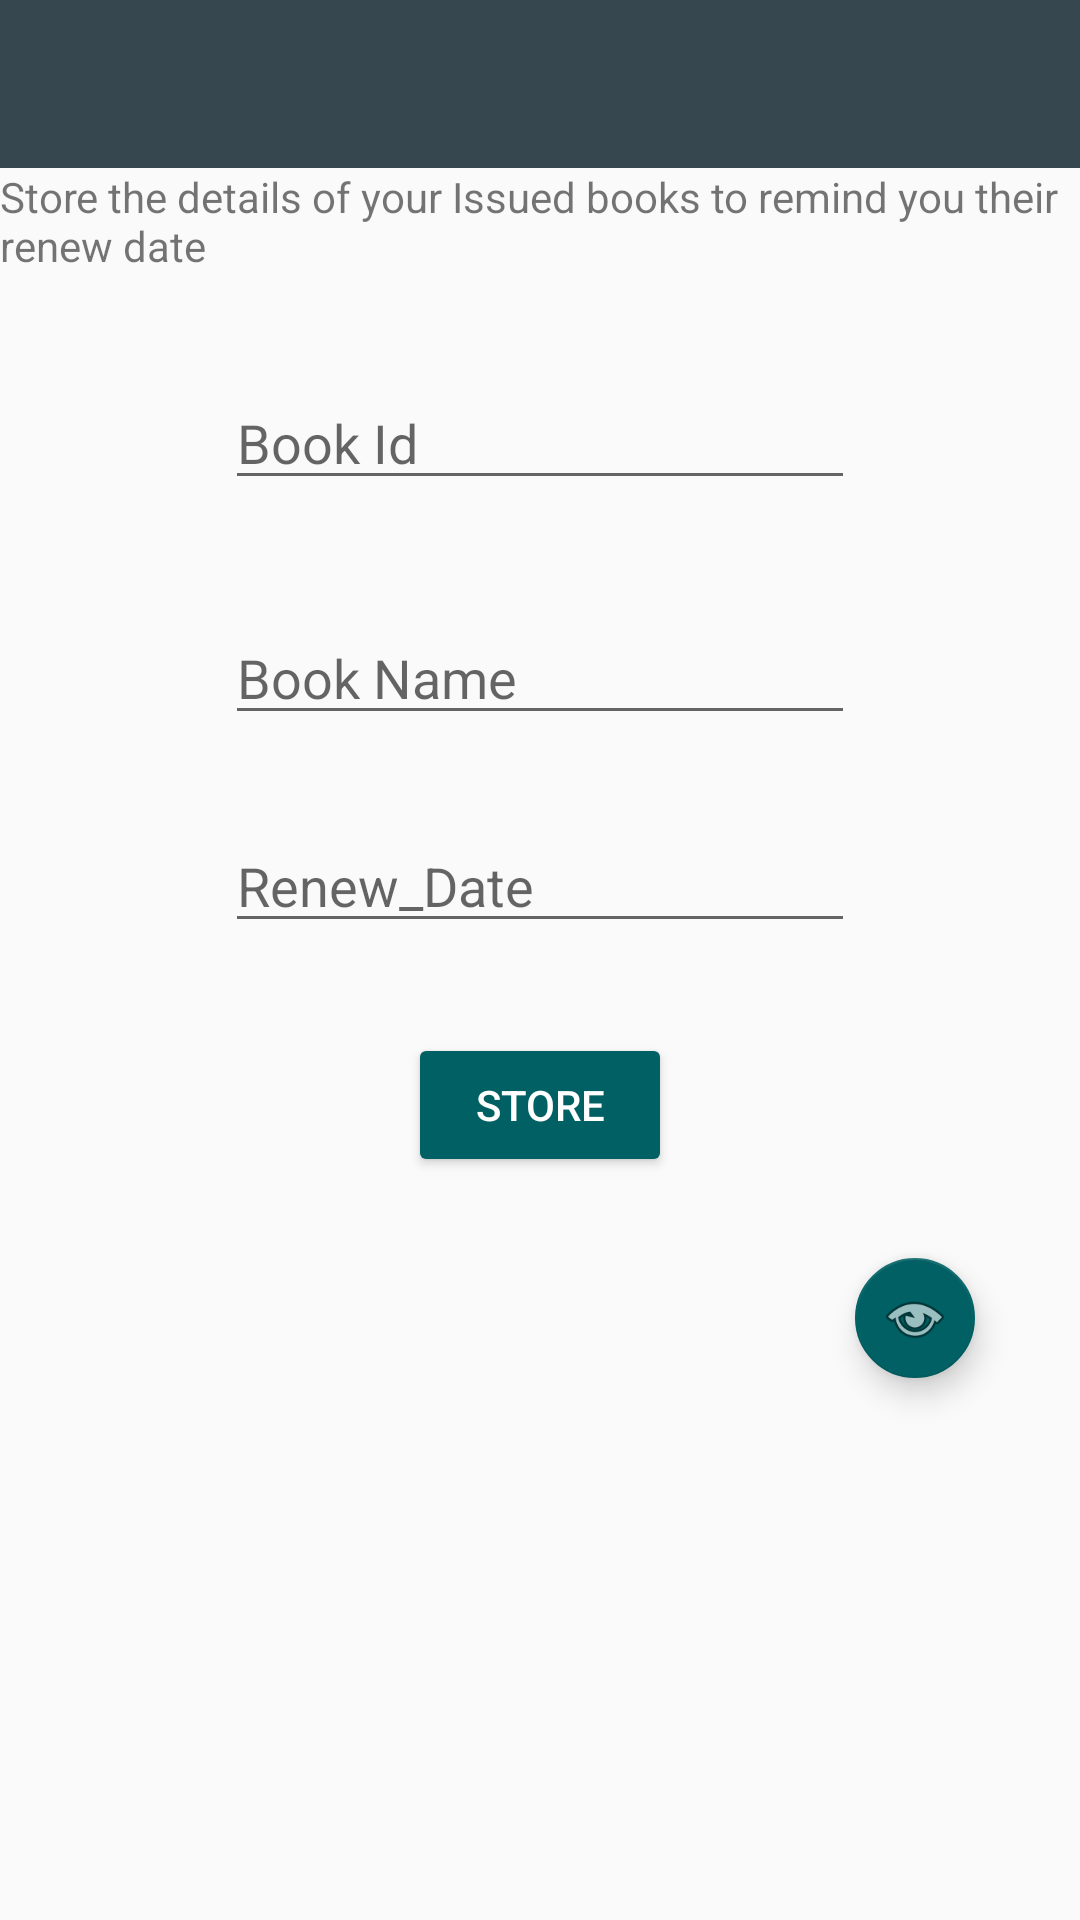

Icons on this 1080*1920 Android screen, each with the point to tap as point (x, y):
view: point (915, 1318)
